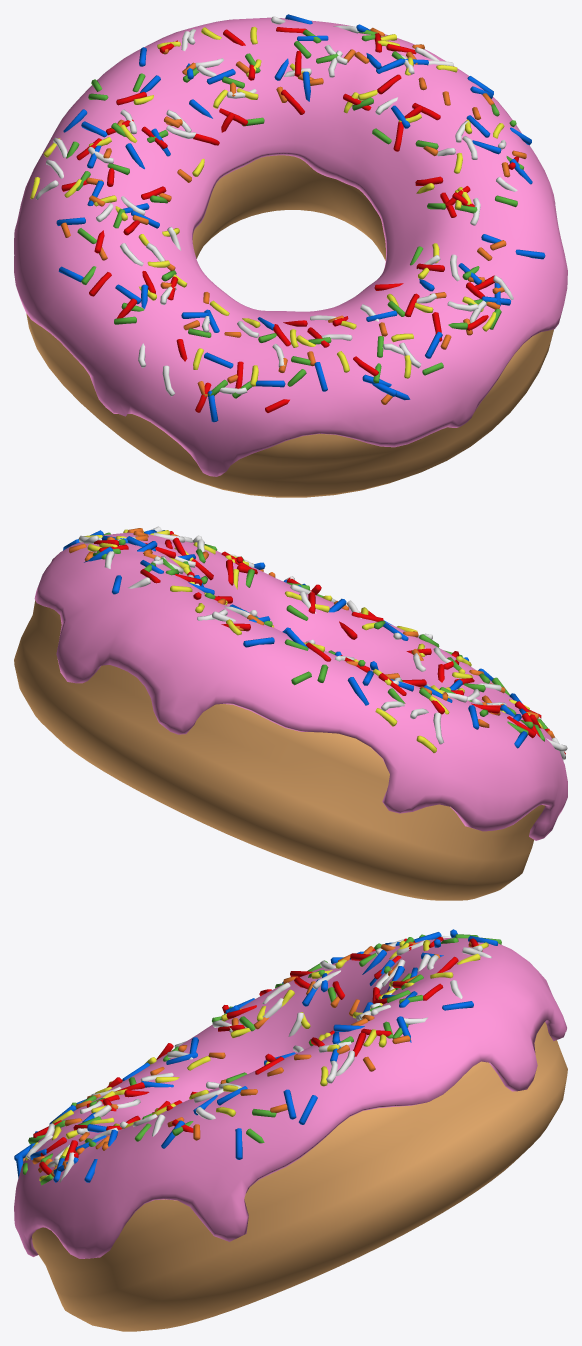
File: donut-forAR-expanded.glb
3 views of the same model, one above another, from view 1: azimuth 30°, elevation 25°; view 2: azimuth 150°, elevation 25°; view 3: azimuth 270°, elevation 25° (orthographic). The views are drawn at different scales.
Visible parts, largest first — view 1: Icing001, Donut001; view 2: Icing001, Donut001; view 3: Icing001, Donut001.
Boxes of the visible parts, x1=… form: Icing001: x1=14, y1=17, x2=567, y2=476; Donut001: x1=26, y1=155, x2=553, y2=497; Icing001: x1=34, y1=532, x2=567, y2=840; Donut001: x1=14, y1=600, x2=545, y2=900; Icing001: x1=14, y1=937, x2=566, y2=1258; Donut001: x1=32, y1=1022, x2=567, y2=1331.
Bounding box in the file's own units: 0.0884 × 0.0606 × 0.084.
